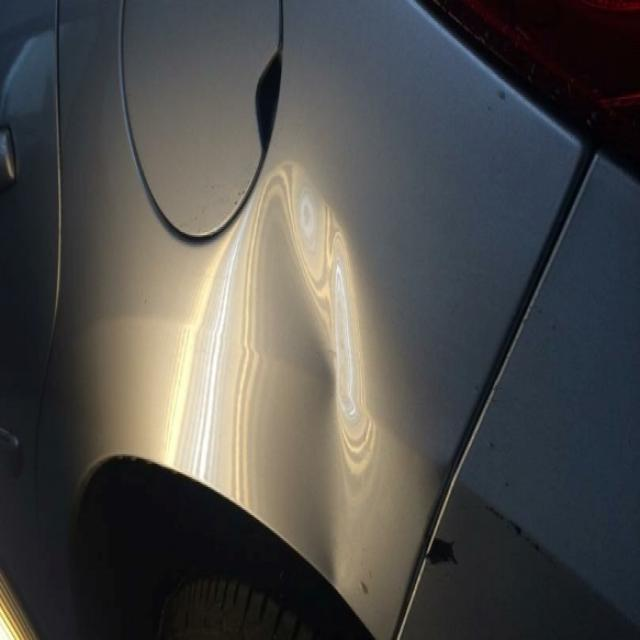dents: (278, 203, 408, 547)
